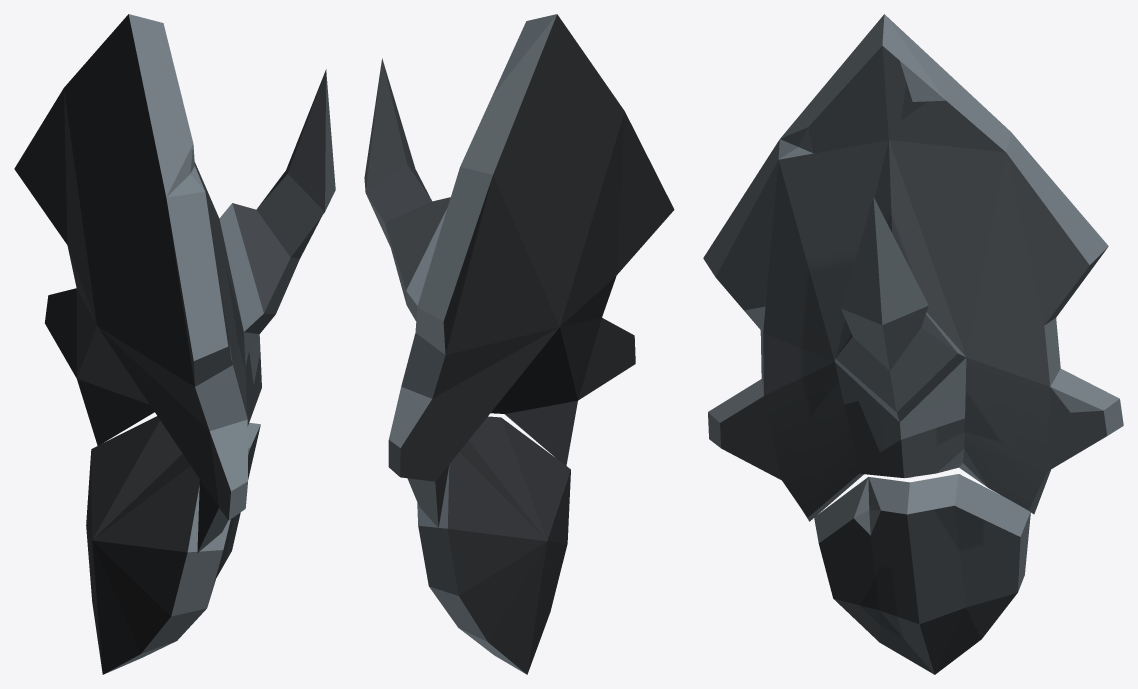
File: SM_Chr_Attach_Armour_Dark_Leg_FL_Medium_01.fbx
3 views of the same model, side by side, from view 1: azimuth 30°, elevation 25°; view 2: azimuth 150°, elevation 25°; view 3: azimuth 270°, elevation 25° (orthographic). The views are drawn at different scales.
Parts seen in each view (by area): view 1: SM_Chr_Attach_Armour_Dark_Leg_FL_Medium_01; view 2: SM_Chr_Attach_Armour_Dark_Leg_FL_Medium_01; view 3: SM_Chr_Attach_Armour_Dark_Leg_FL_Medium_01.
Boxes of the visible parts, x1,y1,x2,y2 form: SM_Chr_Attach_Armour_Dark_Leg_FL_Medium_01: (14,14,335,674); SM_Chr_Attach_Armour_Dark_Leg_FL_Medium_01: (364,14,674,674); SM_Chr_Attach_Armour_Dark_Leg_FL_Medium_01: (703,14,1123,674).
Bounding box in the file's own units: 10.99 × 30.41 × 17.79.
